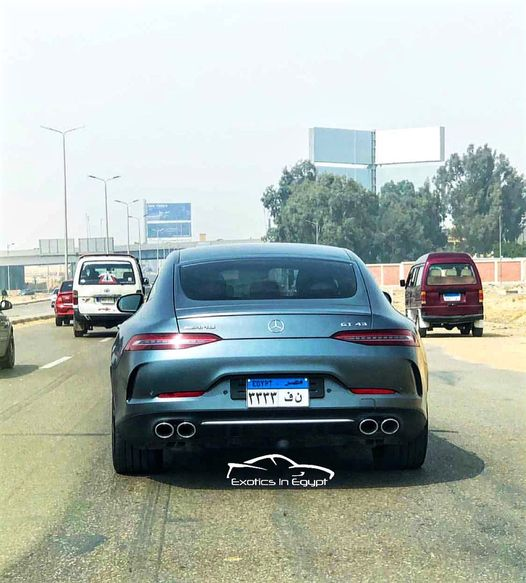carpl: (247, 386, 311, 408)
